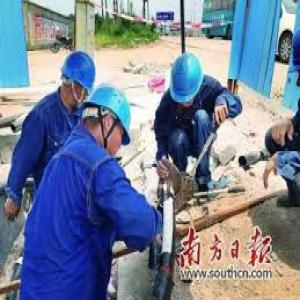blue: (83, 88, 133, 157), (58, 52, 96, 105), (170, 52, 203, 108)
